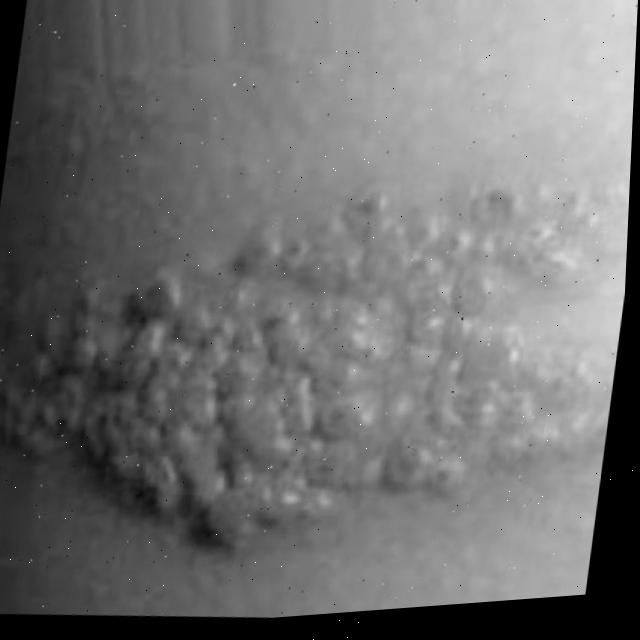Shingles: (0, 119, 633, 603)
